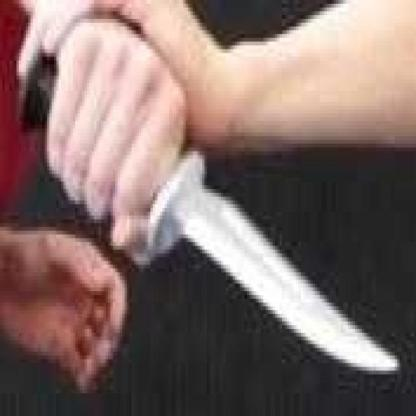Knife: (26, 23, 416, 416)
